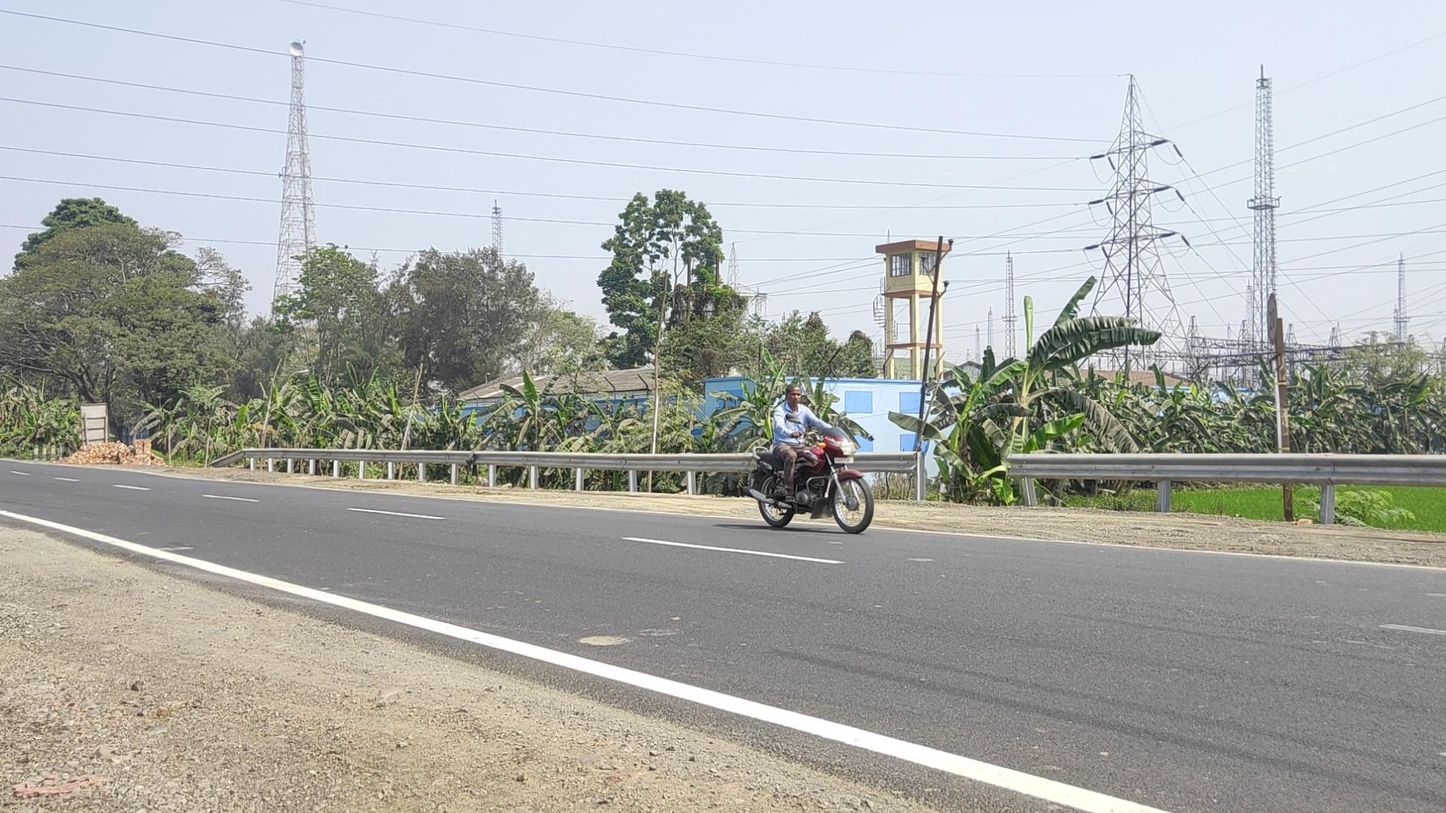bike: (743, 383, 874, 535)
